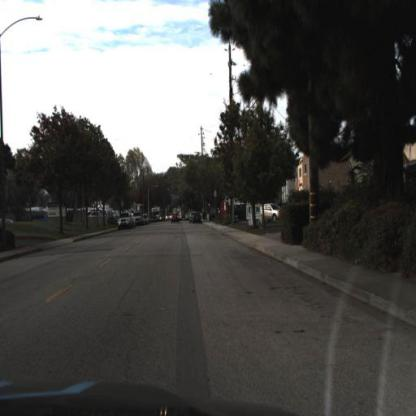car: (257, 197, 284, 231), (117, 209, 134, 233), (85, 208, 108, 224), (190, 208, 203, 228), (170, 208, 183, 226)
